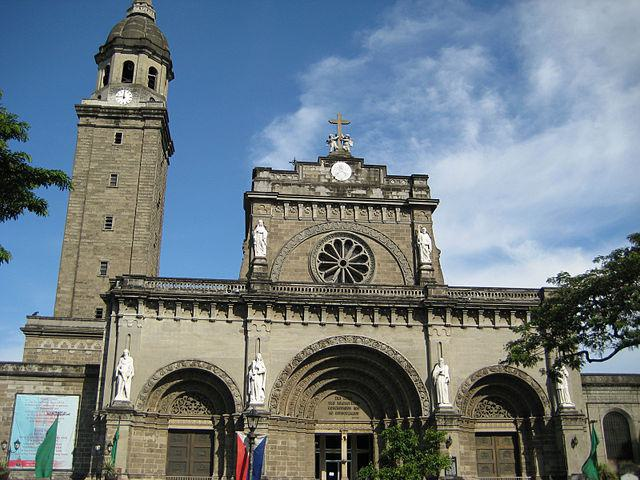manila_cathedral_church_intramuros_manila: (1, 1, 589, 480)
